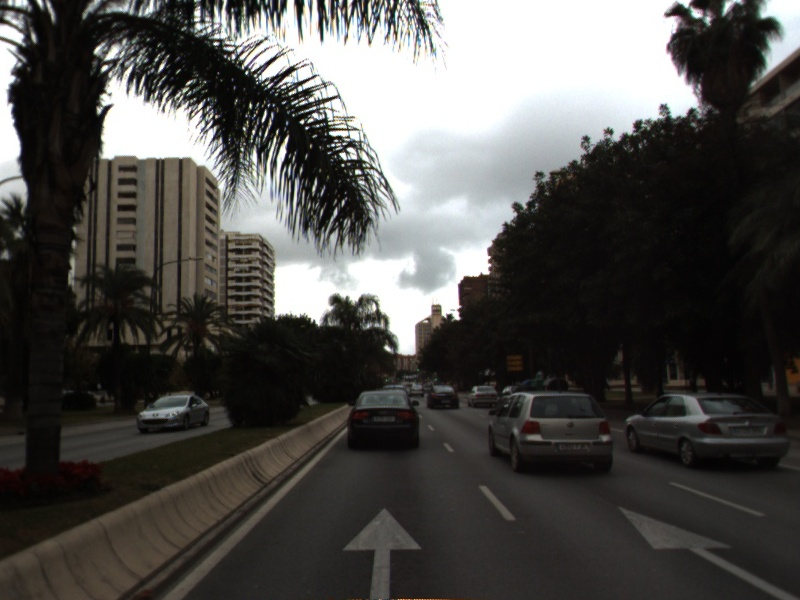STRAIGHT: (615, 503, 800, 600), (338, 502, 427, 600)
